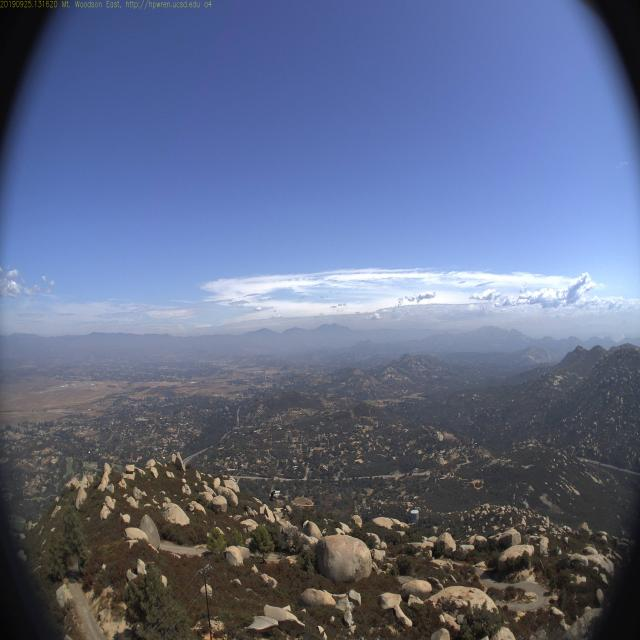smoke: (604, 328, 627, 345)
